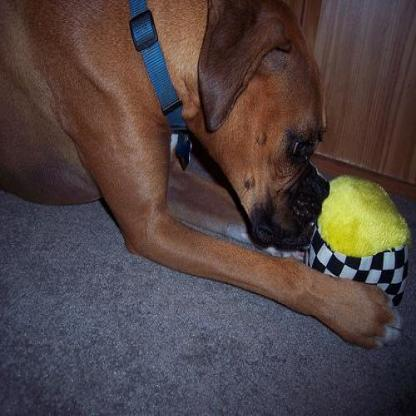boxer: (0, 0, 404, 343)
